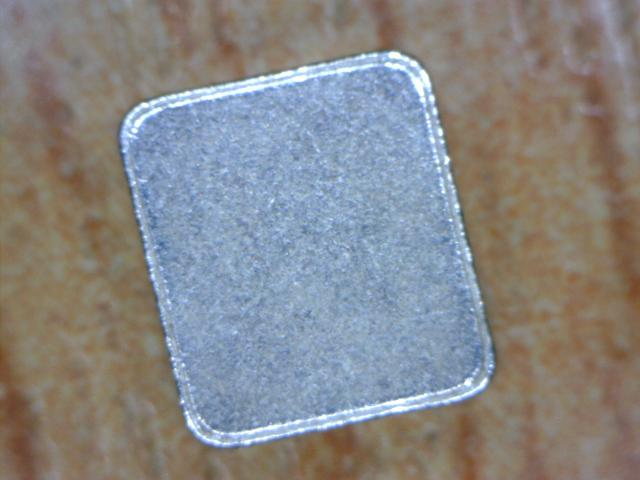nok: (111, 44, 511, 455)
